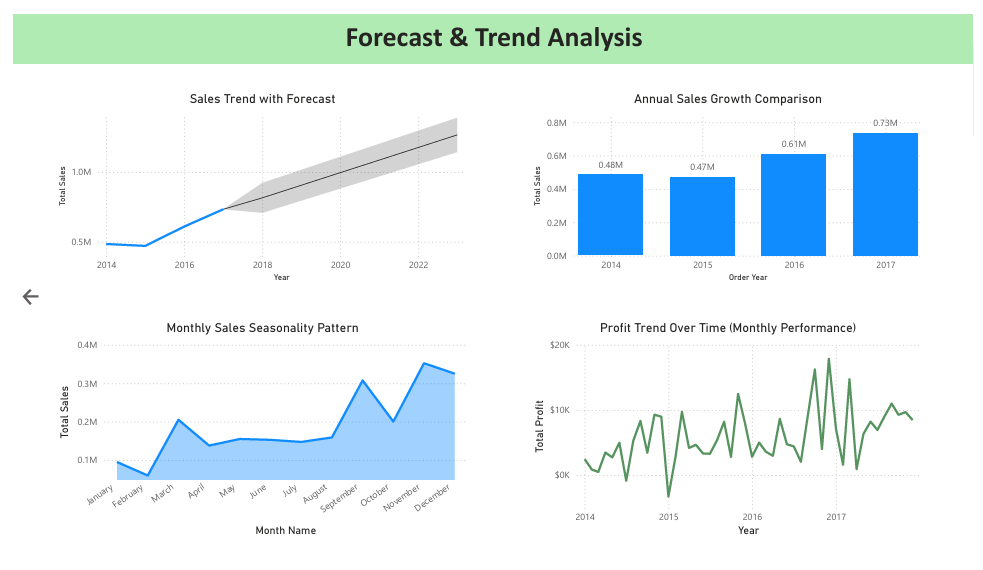

The dashboard page shown, as its layout file describes it:
{"tool":"powerbi","page":{"name":"Forecast & Trend Analysis","canvas":[1280,720],"ordinal":2},"visuals":[{"type":"lineChart","title":"Sales Trend with Forecast ","fields":{"Category":["Cleaned_Superstore.Order Date.Variation.Date Hierarchy.Year","Cleaned_Superstore.Order Date.Variation.Date Hierarchy.Quarter","Cleaned_Superstore.Order Date.Variation.Date Hierarchy.Month","Cleaned_Superstore.Order Date.Variation.Date Hierarchy.Day"],"Y":["Table.Total Sales"]},"box":[54.1,102.4,554.6,257.6],"z":0},{"type":"clusteredColumnChart","title":"Annual Sales Growth Comparison","fields":{"Y":["Table.Total Sales"],"Category":["Cleaned_Superstore.Order Year"]},"box":[687.8,102.4,528.3,257.6],"z":1000},{"type":"areaChart","title":"Monthly Sales Seasonality Pattern","fields":{"Y":["Table.Total Sales"],"Category":["Cleaned_Superstore.Month Name"]},"box":[54.1,406.8,554.6,292.7],"z":2000},{"type":"lineChart","title":"Profit Trend Over Time (Monthly Performance)","fields":{"Y":["Table.Total Profit"],"Category":["Cleaned_Superstore.Order Date.Variation.Date Hierarchy.Year","Cleaned_Superstore.Order Date.Variation.Date Hierarchy.Month"]},"box":[687.8,406.8,528.3,292.7],"z":3000},{"type":"textbox","box":[0,0,1280.5,65.9],"z":4000},{"type":"actionButton","box":[8,361,33,30],"z":5000}]}

Visuals, with their boxes in screenshot pixels (x1, y1, x2, y2), scaled from the page's 1280x720 canvas onto the 983x570 screenshot:
"Sales Trend with Forecast " lineChart: box=[42, 81, 467, 285]
"Annual Sales Growth Comparison" clusteredColumnChart: box=[528, 81, 934, 285]
"Monthly Sales Seasonality Pattern" areaChart: box=[42, 322, 467, 554]
"Profit Trend Over Time (Monthly Performance)" lineChart: box=[528, 322, 934, 554]
textbox: box=[0, 0, 982, 52]
actionButton: box=[6, 286, 31, 310]
